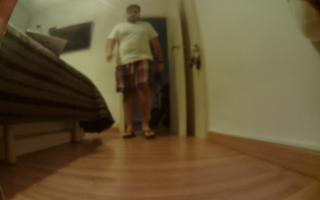person: (104, 1, 169, 143)
